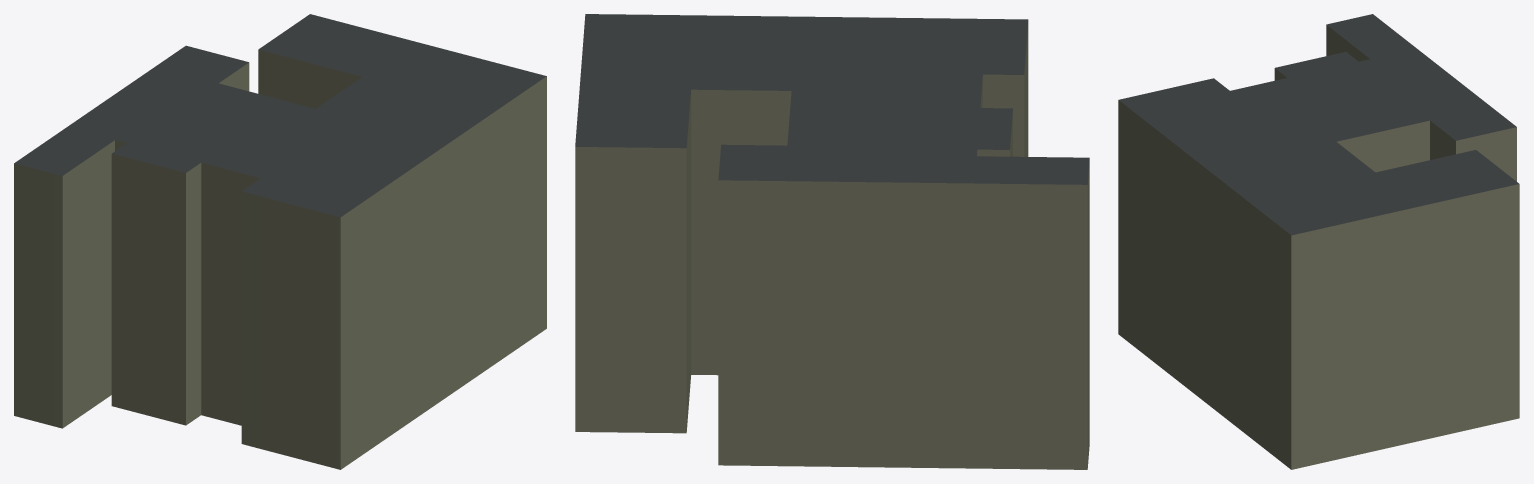
Rendered from nyc-1069583-0.glb.
The picture shows the model from 3 angles, left to right: view 1: azimuth 30°, elevation 25°; view 2: azimuth 150°, elevation 25°; view 3: azimuth 270°, elevation 25°; orthographic projection. The views are drawn at different scales.
Parts seen in each view (by area): view 1: nyc-1069583-0; view 2: nyc-1069583-0; view 3: nyc-1069583-0.
Boxes of the visible parts, bbox=[...] form: nyc-1069583-0: bbox=[14, 14, 546, 469]; nyc-1069583-0: bbox=[575, 14, 1089, 469]; nyc-1069583-0: bbox=[1118, 14, 1519, 469].
Bounding box in the file's own units: 60.49 × 29.86 × 46.3.
